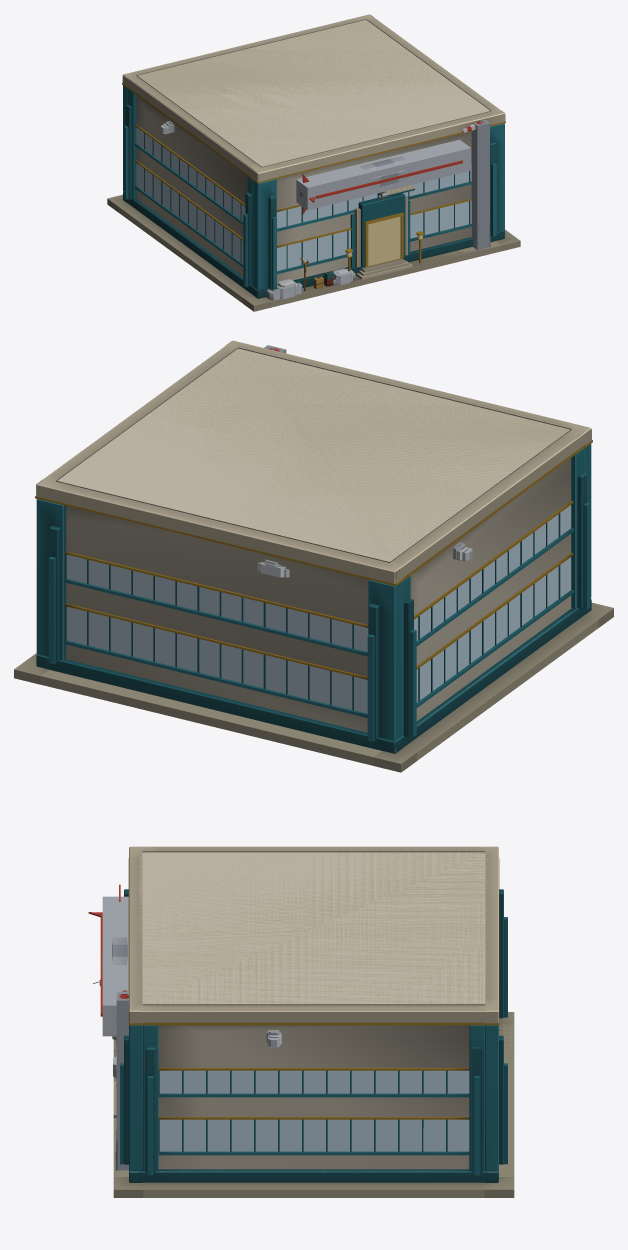
The model's file is CloudCamelFloor.fbx.
3 renders of one model, top to bottom at view 1: azimuth 30°, elevation 25°; view 2: azimuth 150°, elevation 25°; view 3: azimuth 270°, elevation 25°, orthographic. The views are drawn at different scales.
Parts seen in each view (by area): view 1: ZP_S_All, ZP_F_Rings, ZP_F_Smooth, ZP_F_Glass, ZP_F_Props, ZP_F_Quiet; view 2: ZP_F_Rings, ZP_S_All, ZP_F_Glass, ZP_F_Smooth, ZP_F_Quiet, ZP_F_Props; view 3: ZP_S_All, ZP_F_Rings, ZP_F_Glass, ZP_F_Smooth, ZP_F_Quiet, ZP_F_Props.
Boxes of the visible parts, x1,y1,x2,y2 form: ZP_S_All: [110, 19, 520, 311]; ZP_F_Rings: [122, 14, 505, 298]; ZP_F_Smooth: [107, 74, 520, 311]; ZP_F_Glass: [136, 127, 471, 270]; ZP_F_Props: [160, 121, 462, 300]; ZP_F_Quiet: [108, 194, 519, 305]; ZP_F_Rings: [36, 340, 591, 753]; ZP_S_All: [15, 345, 613, 772]; ZP_F_Glass: [66, 505, 571, 713]; ZP_F_Smooth: [14, 348, 613, 772]; ZP_F_Quiet: [14, 602, 613, 763]; ZP_F_Props: [258, 542, 472, 577]; ZP_S_All: [102, 851, 514, 1197]; ZP_F_Rings: [120, 846, 507, 1182]; ZP_F_Glass: [159, 1070, 469, 1151]; ZP_F_Smooth: [88, 847, 513, 1197]; ZP_F_Quiet: [114, 1012, 513, 1189]; ZP_F_Props: [100, 916, 281, 1078].
Size of the model in its own units: 60 by 20 by 60.
